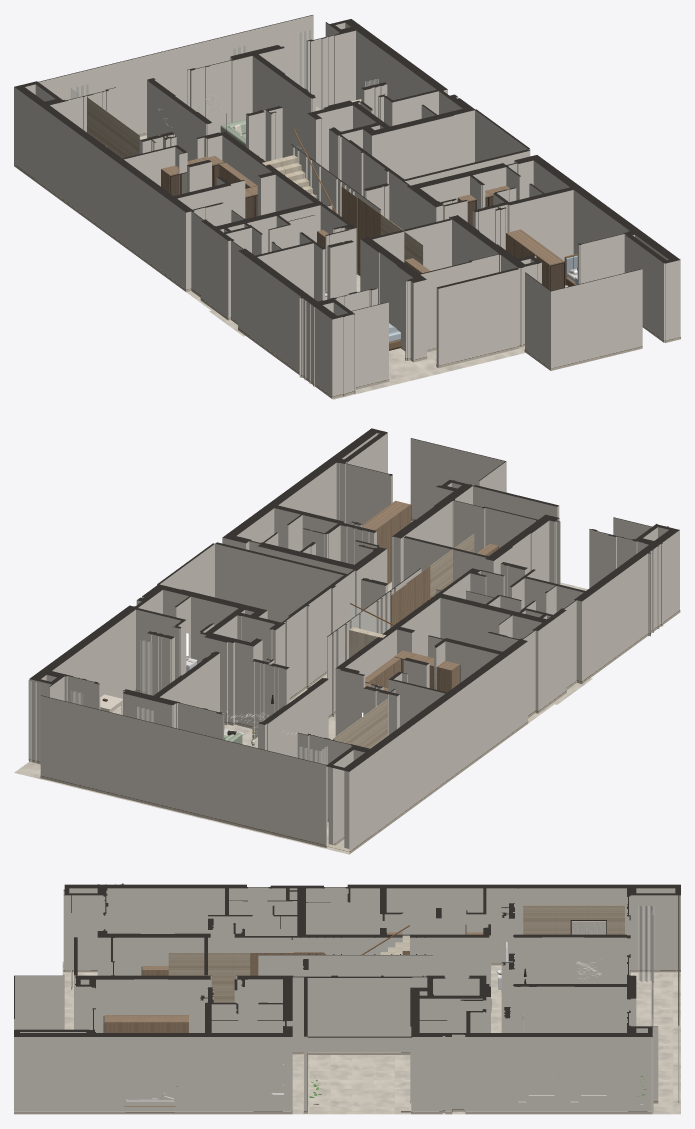
Rendered from ff_house_v2.glb.
The picture shows the model from 3 angles, top to bottom: view 1: azimuth 30°, elevation 25°; view 2: azimuth 150°, elevation 25°; view 3: azimuth 270°, elevation 25°; orthographic projection. The views are drawn at different scales.
Parts seen in each view (by area): view 1: MeshStandardMaterial_14, MeshStandardMaterial_15, MeshStandardMaterial_7, MeshStandardMaterial_5, MeshStandardMaterial_1, MeshStandardMaterial_16, MeshStandardMaterial_87, MeshStandardMaterial_104, MeshStandardMaterial_12, MeshPhysicalMaterial_3; view 2: MeshStandardMaterial_14, MeshStandardMaterial_15, MeshStandardMaterial_7, MeshStandardMaterial_16, MeshStandardMaterial_5, MeshStandardMaterial_104, MeshStandardMaterial_1, MeshPhysicalMaterial_3; view 3: MeshStandardMaterial_14, MeshStandardMaterial_15, MeshStandardMaterial_1, MeshStandardMaterial_5, MeshStandardMaterial_16, MeshStandardMaterial_7, MeshStandardMaterial_104, MeshPhysicalMaterial_3, MeshStandardMaterial_91.
Boxes of the visible parts, box(x1,y1,x2,y2) form: MeshStandardMaterial_14: box(14, 15, 680, 396); MeshStandardMaterial_15: box(14, 15, 680, 319); MeshStandardMaterial_7: box(161, 155, 564, 290); MeshStandardMaterial_5: box(87, 97, 423, 265); MeshStandardMaterial_1: box(140, 135, 568, 399); MeshStandardMaterial_16: box(14, 133, 680, 398); MeshStandardMaterial_87: box(170, 165, 564, 290); MeshStandardMaterial_104: box(70, 30, 378, 98); MeshStandardMaterial_12: box(262, 155, 316, 198); MeshPhysicalMaterial_3: box(294, 133, 333, 210); MeshStandardMaterial_14: box(29, 432, 679, 853); MeshStandardMaterial_15: box(29, 428, 679, 771); MeshStandardMaterial_7: box(363, 500, 498, 692); MeshStandardMaterial_16: box(29, 518, 680, 853); MeshStandardMaterial_5: box(333, 534, 474, 748); MeshStandardMaterial_104: box(28, 639, 327, 827); MeshStandardMaterial_1: box(14, 582, 680, 854); MeshPhysicalMaterial_3: box(350, 605, 391, 633); MeshStandardMaterial_14: box(14, 887, 680, 1111); MeshStandardMaterial_15: box(14, 883, 680, 1037); MeshStandardMaterial_1: box(62, 961, 680, 1114); MeshStandardMaterial_5: box(168, 905, 624, 1002); MeshStandardMaterial_16: box(14, 963, 680, 1114); MeshStandardMaterial_7: box(104, 932, 483, 1032); MeshStandardMaterial_104: box(522, 905, 654, 1113); MeshPhysicalMaterial_3: box(365, 927, 409, 954); MeshStandardMaterial_91: box(571, 921, 606, 934).
Bounding box in the file's own units: 12.9 × 4 × 23.57.
98 materials, 16 textured.
